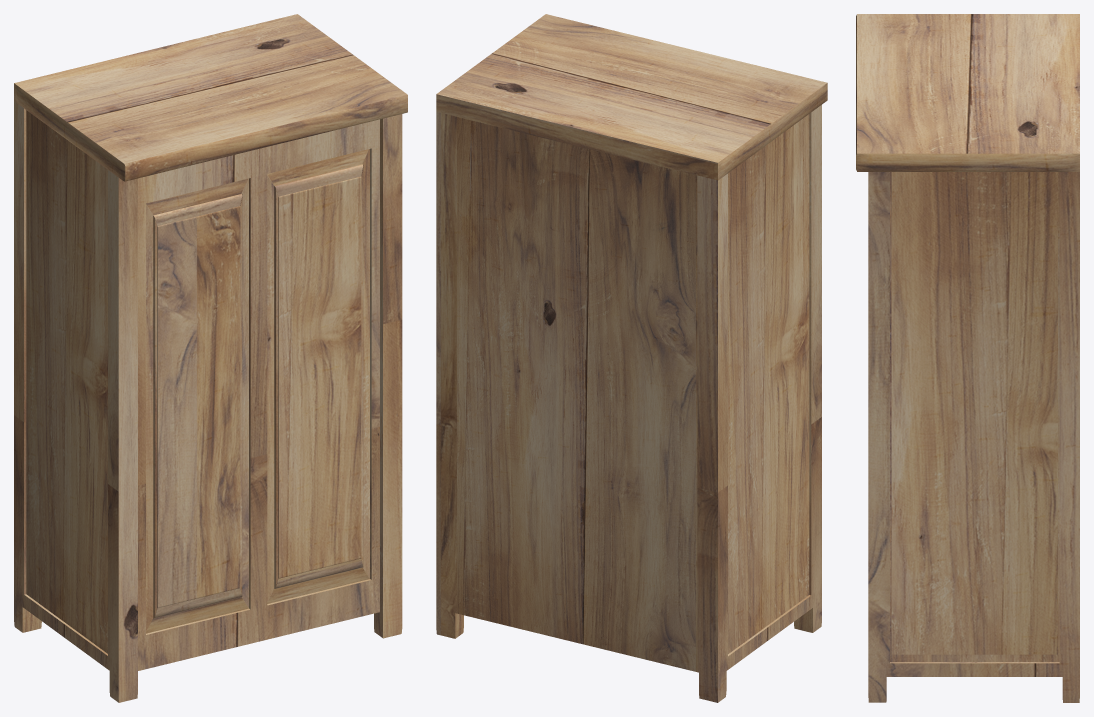
The model's file is wardrobe.glb.
The picture shows the model from 3 angles, left to right: view 1: azimuth 30°, elevation 25°; view 2: azimuth 150°, elevation 25°; view 3: azimuth 270°, elevation 25°; orthographic projection.
Visible parts, largest first — view 1: Cube.001; view 2: Cube.001; view 3: Cube.001.
Part boxes in pixels (left/top/right/bottom): Cube.001: left=14, top=14, right=407, bottom=702; Cube.001: left=436, top=14, right=827, bottom=702; Cube.001: left=856, top=14, right=1079, bottom=702.
Bounding box in the file's own units: 1.78 × 3.25 × 1.2.
Materials: 1 (1 with a texture image).
